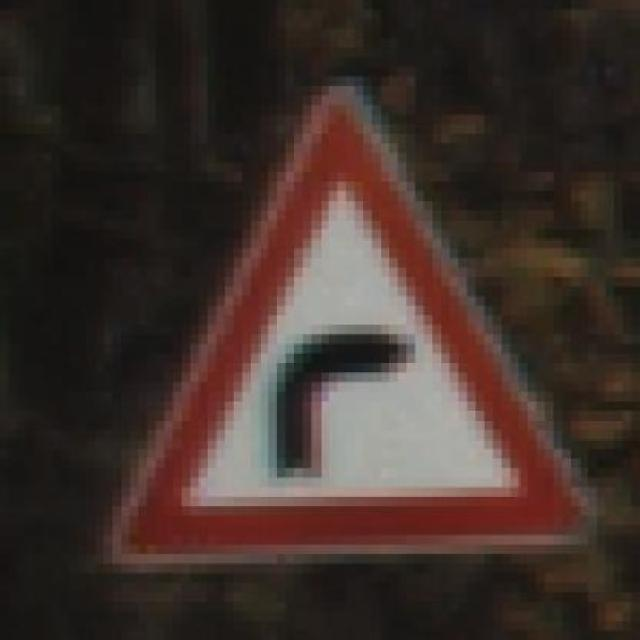Dangerous Rright Curve Ahead: (86, 57, 597, 583)
